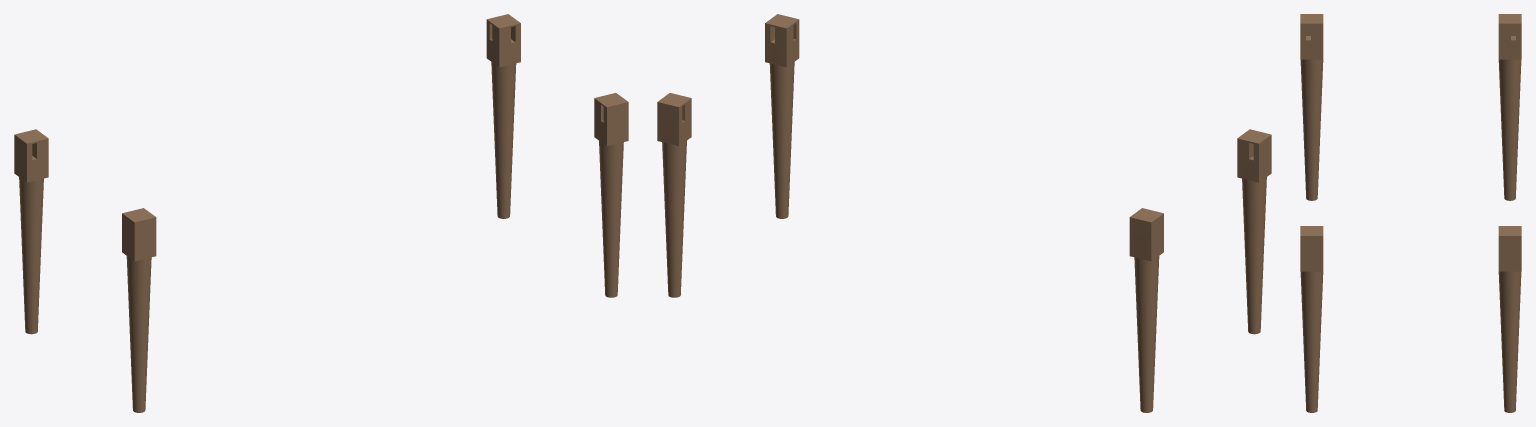
Rendered from Legs_RoundTaper.glb.
3 views of the same model, side by side, from view 1: azimuth 30°, elevation 25°; view 2: azimuth 150°, elevation 25°; view 3: azimuth 270°, elevation 25° (orthographic). The views are drawn at different scales.
Parts seen in each view (by area): view 1: Legs_RoundTaper; view 2: Legs_RoundTaper; view 3: Legs_RoundTaper.
Part boxes in pixels (x1=…): Legs_RoundTaper: x1=14, y1=14, x2=628, y2=412; Legs_RoundTaper: x1=657, y1=14, x2=1271, y2=412; Legs_RoundTaper: x1=1300, y1=14, x2=1521, y2=412.
Size of the model in its own units: 1.01 by 0.381 by 0.4255.
